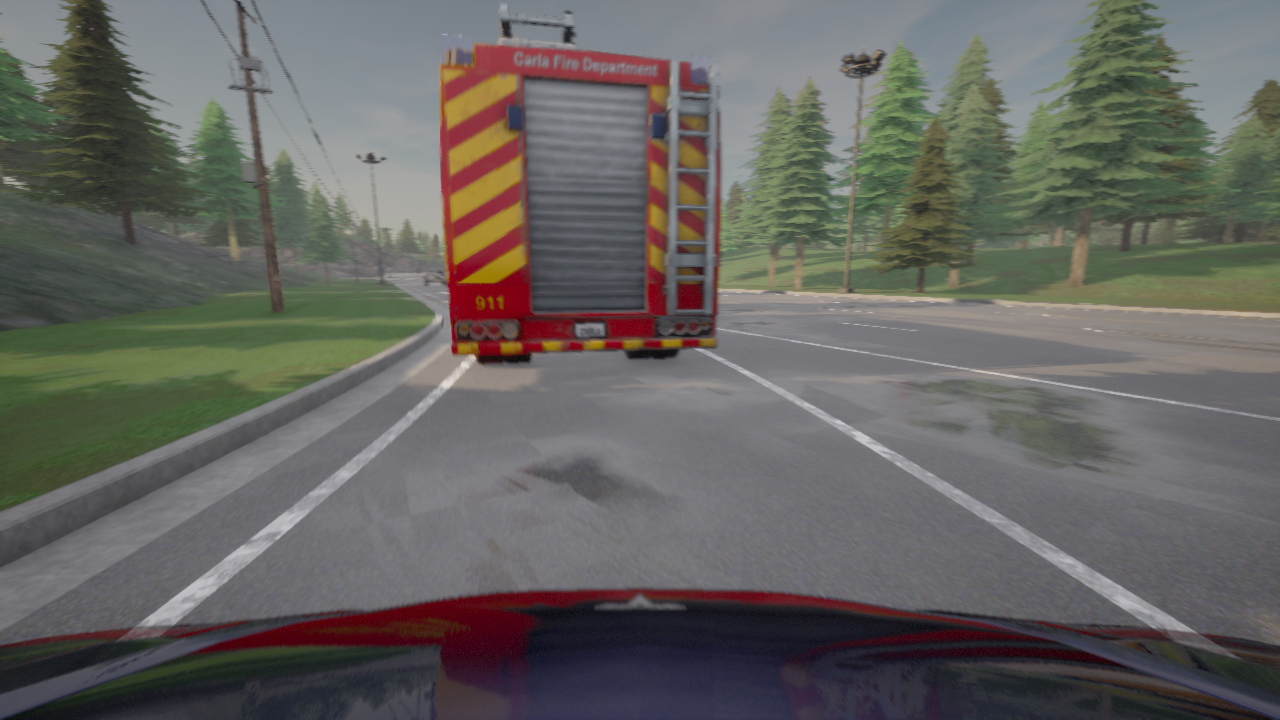cyclist: (0, 588, 1279, 719), (440, 4, 720, 363), (422, 267, 447, 286)
